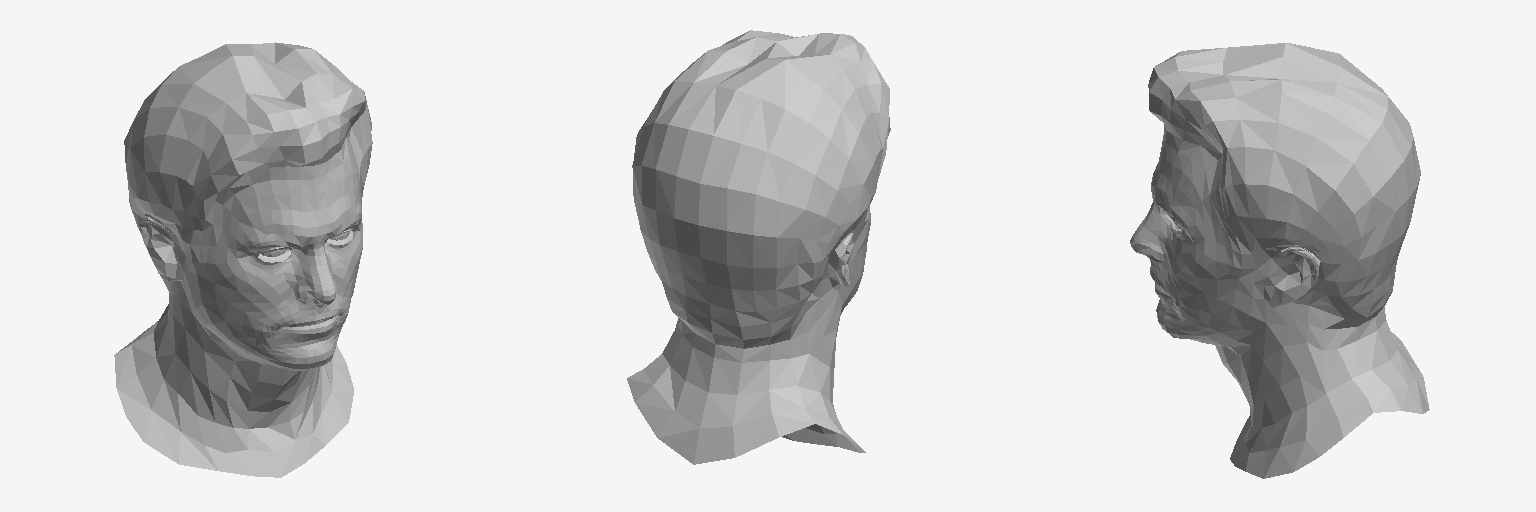
3 views of the same model, side by side, from view 1: azimuth 30°, elevation 25°; view 2: azimuth 150°, elevation 25°; view 3: azimuth 270°, elevation 25° (orthographic).
Visible parts, largest first — view 1: theillusiveman_illHead; view 2: theillusiveman_illHead; view 3: theillusiveman_illHead.
Part boxes in pixels (bbox=[...]): theillusiveman_illHead: bbox=[114, 42, 372, 477]; theillusiveman_illHead: bbox=[627, 30, 890, 464]; theillusiveman_illHead: bbox=[1130, 43, 1429, 478].
Bounding box in the file's own units: 7.7 × 13.58 × 9.06.